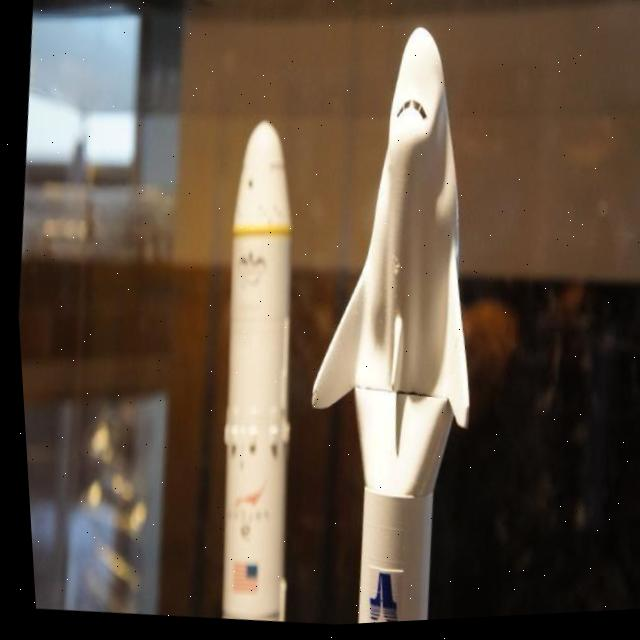missile: (259, 10, 528, 629), (168, 104, 338, 621)
